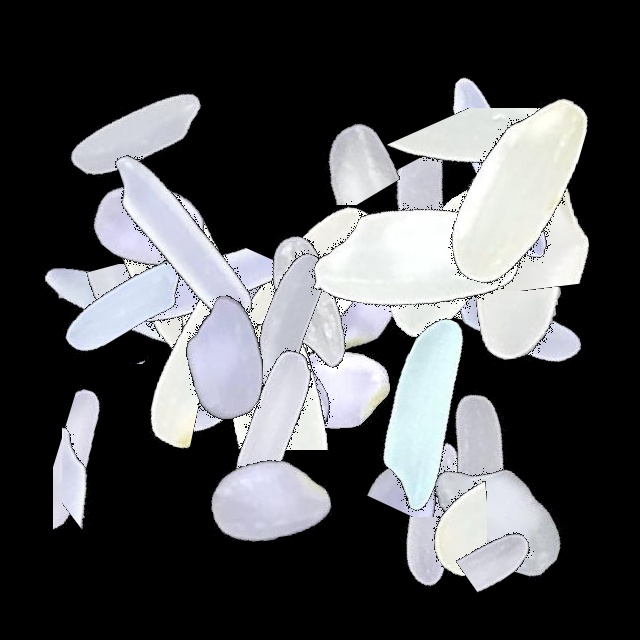Broken: (119, 195, 287, 445), (155, 290, 405, 450), (324, 152, 574, 300), (390, 144, 640, 291), (53, 352, 190, 602), (356, 108, 606, 244), (211, 73, 461, 205), (390, 485, 640, 603), (1, 264, 251, 381), (390, 180, 640, 295), (96, 216, 211, 466), (46, 262, 296, 375), (300, 405, 550, 517), (35, 301, 285, 411), (380, 164, 630, 268), (387, 89, 480, 339), (62, 362, 155, 612), (0, 279, 250, 364), (409, 390, 487, 640), (360, 250, 610, 325), (0, 255, 250, 330)
Full: (90, 249, 340, 499), (368, 118, 618, 368), (390, 194, 640, 444), (0, 180, 250, 430), (47, 147, 297, 397), (24, 99, 274, 349), (310, 390, 560, 640), (209, 266, 459, 516), (150, 203, 400, 453), (153, 266, 403, 516), (230, 174, 480, 424), (390, 123, 640, 373), (185, 167, 435, 417), (121, 249, 371, 499), (11, 5, 261, 255), (350, 338, 600, 588), (183, 176, 433, 426), (160, 197, 410, 447), (376, 43, 626, 293), (371, 390, 621, 640), (0, 181, 250, 431), (147, 296, 397, 546), (335, 134, 585, 384), (55, 110, 305, 360), (144, 376, 394, 626), (295, 136, 545, 386), (299, 284, 549, 534), (390, 64, 640, 314), (100, 231, 350, 481)
